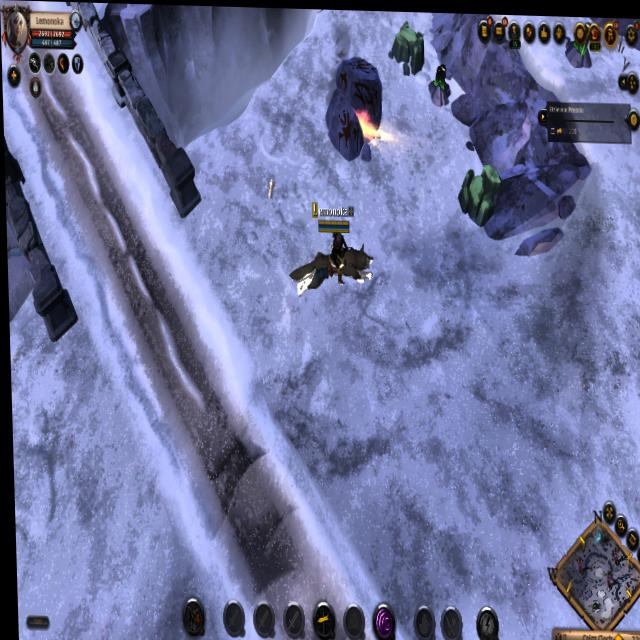ore tier 3: (426, 61, 451, 107)
rock tier 3: (457, 160, 503, 228), (388, 15, 427, 77)
